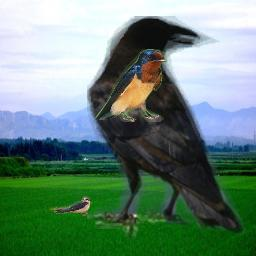Crow: (87, 16, 245, 239)
Swallow: (94, 49, 167, 122), (54, 196, 90, 216)
